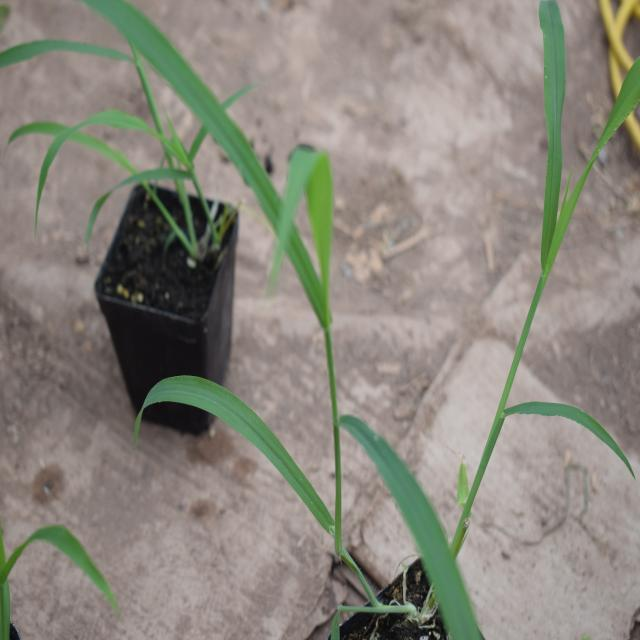crabgrass: (113, 26, 461, 614), (480, 14, 640, 456)
